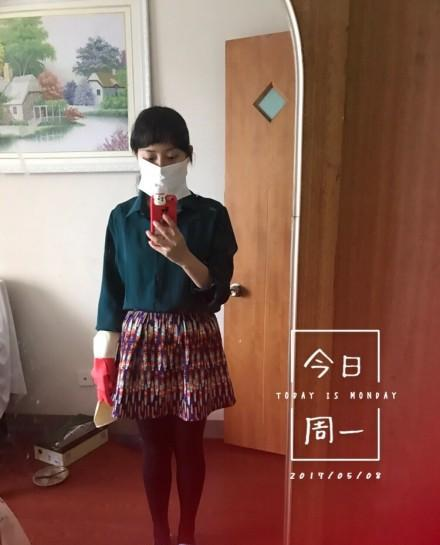OK: (138, 142, 191, 195)
